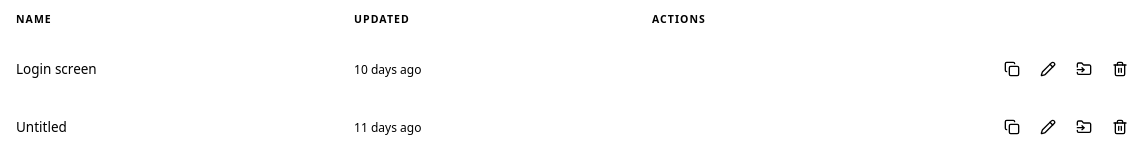
it: FilesTable - files (existing behavior) › cancels the rename on Escape without sending a request
This screenshot has width=1144, height=160.
Click the button named "Rename" in the row of "Login screen": (1048, 69) [1032,53,1064,85]
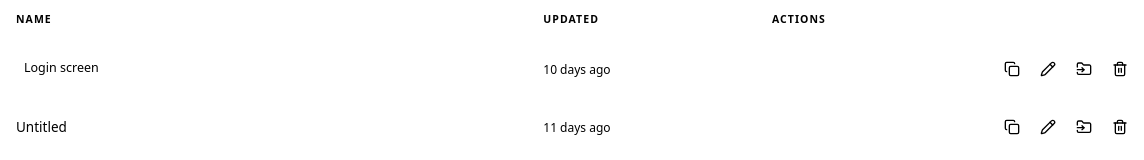
In the field named "File name": (264, 69) [24,53,503,84], type " changed"
Then press Escape
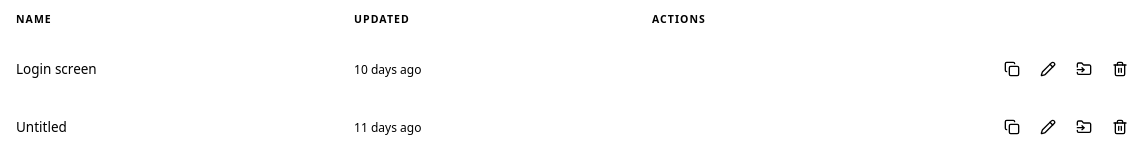
Result: the link "Login screen" is shown at [16,60,97,78]
